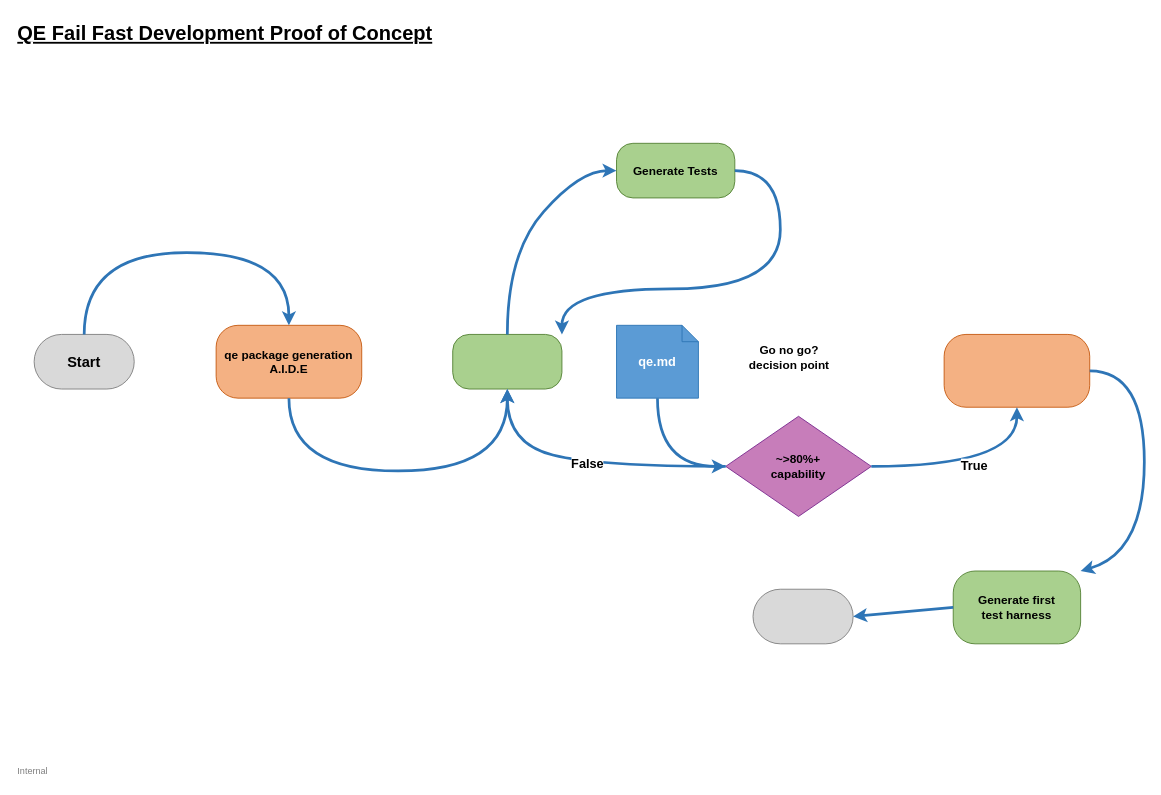
Image size: 1161x795. Some labels were removed from this diagram. The centre of each missing label's shape, as x and y in pixels:
"End" goes at (802,616).
"qe package completion A.I.D.E" goes at (1016,370).
"work qe.md" goes at (507,361).
